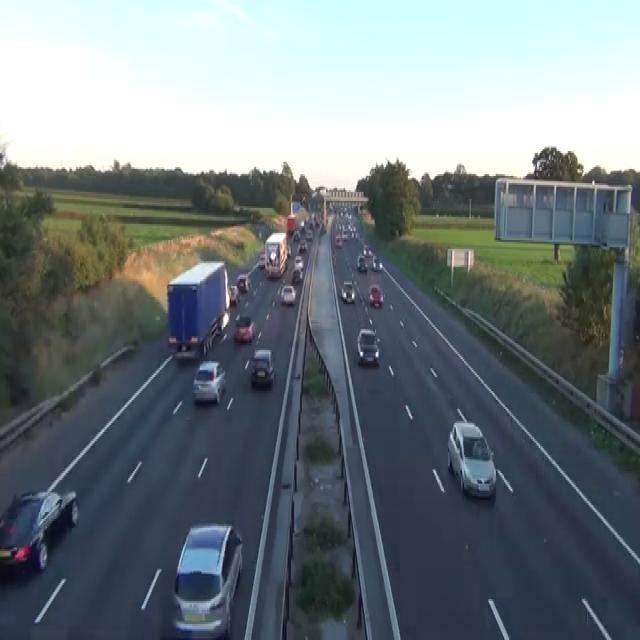Car: (171, 523, 243, 638), (0, 487, 79, 574), (447, 420, 496, 498), (192, 359, 226, 404), (250, 347, 275, 388), (356, 327, 379, 365), (234, 313, 254, 343), (340, 279, 355, 304), (279, 284, 296, 306), (369, 282, 383, 308), (216, 311, 229, 334), (228, 282, 239, 306), (236, 274, 250, 292), (356, 254, 367, 272), (291, 266, 302, 282), (293, 254, 303, 270), (372, 256, 382, 270), (258, 252, 265, 268), (292, 229, 300, 242), (335, 233, 342, 247), (298, 240, 306, 252), (319, 222, 326, 233), (363, 244, 369, 256), (298, 221, 305, 231), (306, 229, 312, 240), (342, 231, 348, 240), (287, 244, 291, 256)
Truck: (166, 260, 230, 358), (264, 231, 287, 277)
